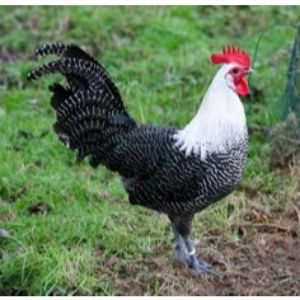hen: (26, 35, 268, 280)
